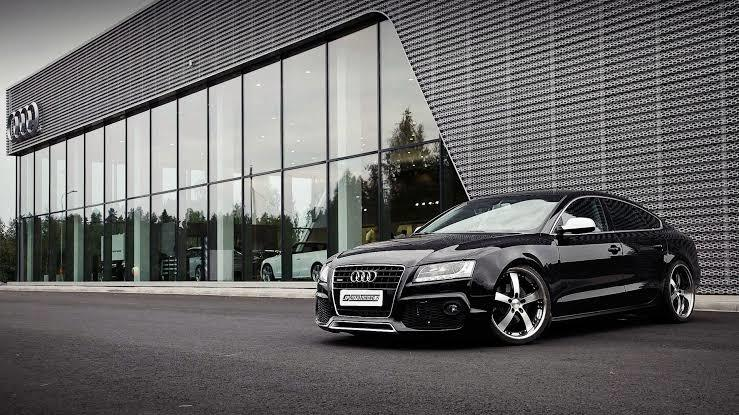audi: (311, 187, 703, 347)
